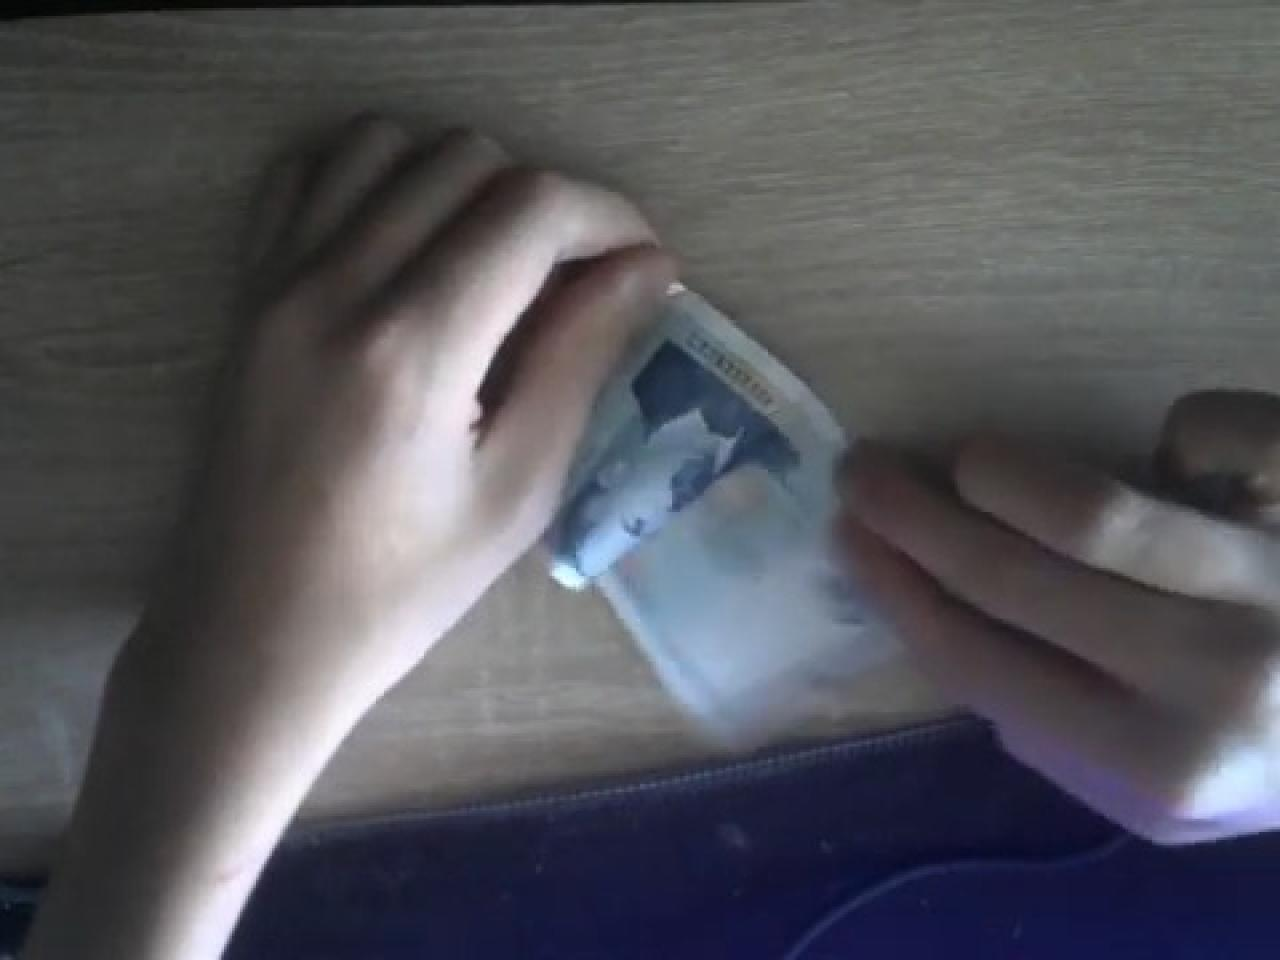20leva: (530, 277, 883, 736)
